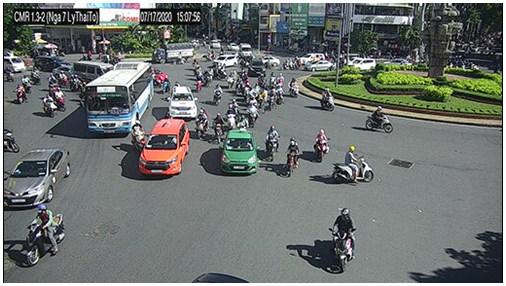xe_buyt: (86, 61, 154, 135)
xe_hoi: (138, 119, 189, 177), (221, 127, 256, 174), (168, 87, 197, 118), (34, 56, 71, 70), (346, 57, 376, 70), (297, 52, 325, 65), (304, 60, 334, 72), (213, 54, 238, 68), (247, 58, 266, 76)
xe_khach: (72, 60, 114, 81), (241, 44, 251, 56)
xe_may: (25, 203, 66, 266), (329, 207, 358, 273), (332, 145, 374, 184), (365, 105, 393, 133), (285, 137, 300, 179), (313, 129, 329, 163), (131, 119, 146, 154), (266, 125, 279, 163), (2, 125, 19, 154), (195, 107, 209, 141), (213, 113, 225, 145), (52, 87, 66, 113), (245, 103, 259, 129), (321, 87, 335, 111), (67, 73, 85, 91), (43, 92, 55, 118), (266, 88, 278, 111), (213, 63, 227, 82), (14, 83, 26, 105), (20, 73, 32, 94), (234, 76, 246, 97), (227, 102, 236, 129), (29, 69, 42, 86), (289, 78, 300, 98), (58, 70, 69, 89), (47, 73, 59, 90), (213, 84, 222, 106), (238, 114, 250, 130), (161, 76, 171, 95), (258, 72, 267, 89), (249, 96, 259, 109), (196, 76, 202, 92), (193, 59, 201, 69)
xe_tai: (153, 43, 195, 64)
